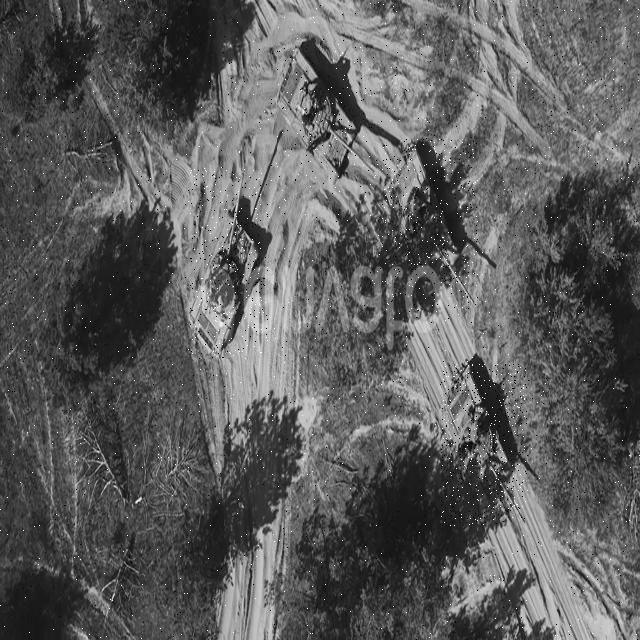MIL_MBT: (382, 139, 478, 312), (190, 169, 268, 359), (277, 42, 377, 185), (441, 364, 528, 526)
